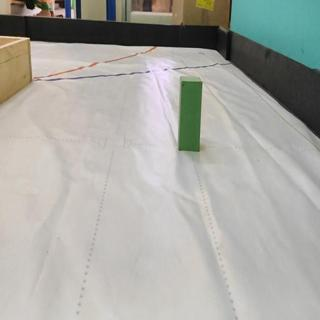greenbox: (179, 77, 202, 153)
